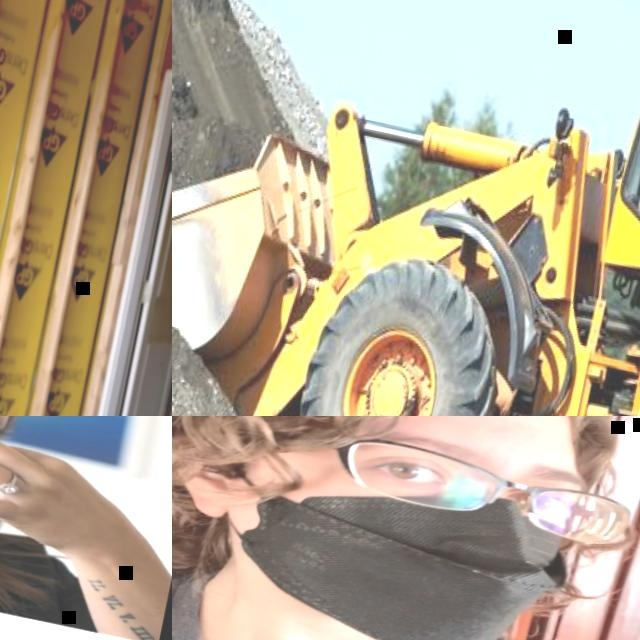Mask: (184, 437, 582, 640)
NO-Hardhat: (183, 416, 612, 459)
NO-Safety Vest: (172, 555, 640, 640), (0, 463, 73, 625)
Person: (172, 416, 640, 640), (0, 416, 172, 640)
machinery: (172, 0, 640, 416)
